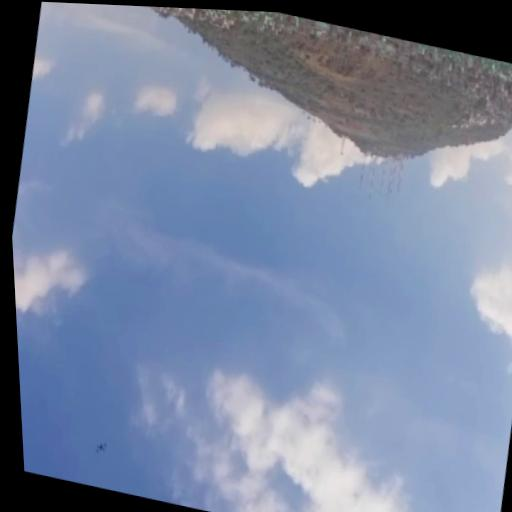drones: (93, 438, 110, 458)
